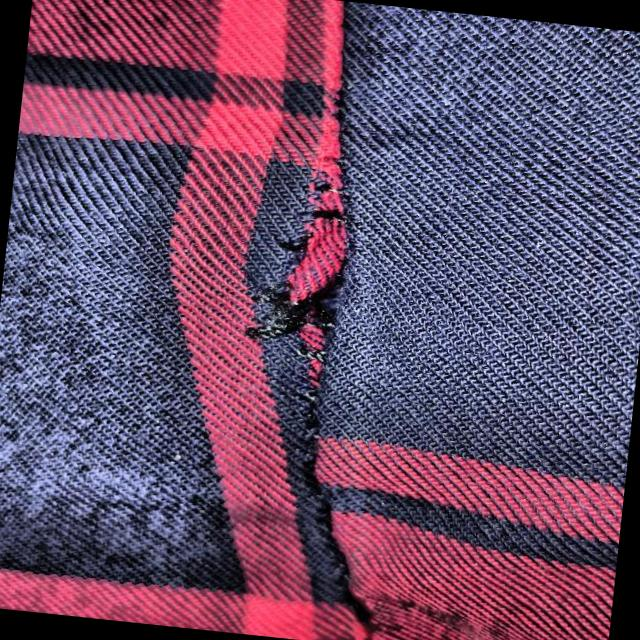gray stitch: (215, 146, 416, 440)
